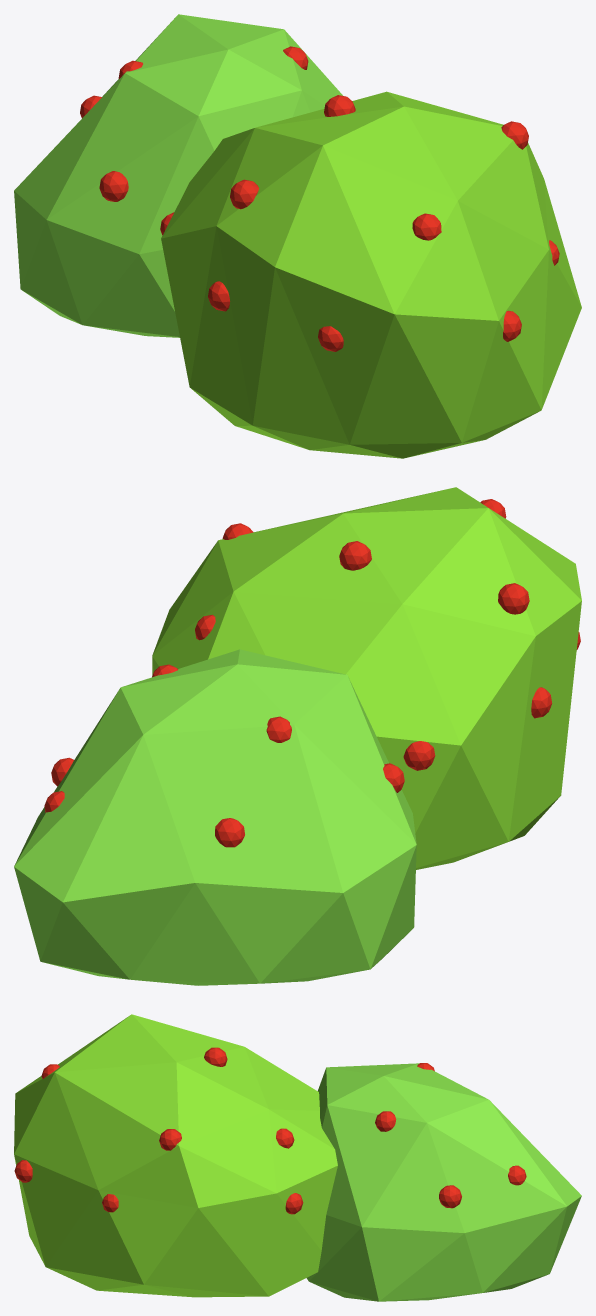
File: low_poly_bushes.glb
The picture shows the model from 3 angles, top to bottom: view 1: azimuth 30°, elevation 25°; view 2: azimuth 150°, elevation 25°; view 3: azimuth 270°, elevation 25°; orthographic projection. The views are drawn at different scales.
Parts seen in each view (by area): view 1: object 1, Esta no_11, object 18, object 3, object 5; view 2: Esta no_11, object 1, object 3, object 2, object 8, object 15; view 3: object 1, Esta no_11, object 13, object 4.
Part boxes in pixels (left/top/right/bottom): object 1: left=161, top=91, right=581, bottom=458; Esta no_11: left=14, top=14, right=342, bottom=337; object 18: left=99, top=171, right=128, bottom=201; object 3: left=230, top=179, right=259, bottom=209; object 5: left=412, top=213, right=441, bottom=240; Esta no_11: left=14, top=649, right=416, bottom=985; object 1: left=152, top=487, right=581, bottom=869; object 3: left=498, top=583, right=529, bottom=614; object 2: left=339, top=541, right=371, bottom=570; object 8: left=403, top=741, right=435, bottom=770; object 15: left=215, top=818, right=244, bottom=847; object 1: left=14, top=1014, right=337, bottom=1297; Esta no_11: left=306, top=1063, right=581, bottom=1301; object 13: left=439, top=1185, right=461, bottom=1208; object 4: left=159, top=1129, right=181, bottom=1150.
Bounding box in the file's own units: 7.34 × 5.41 × 13.12.
